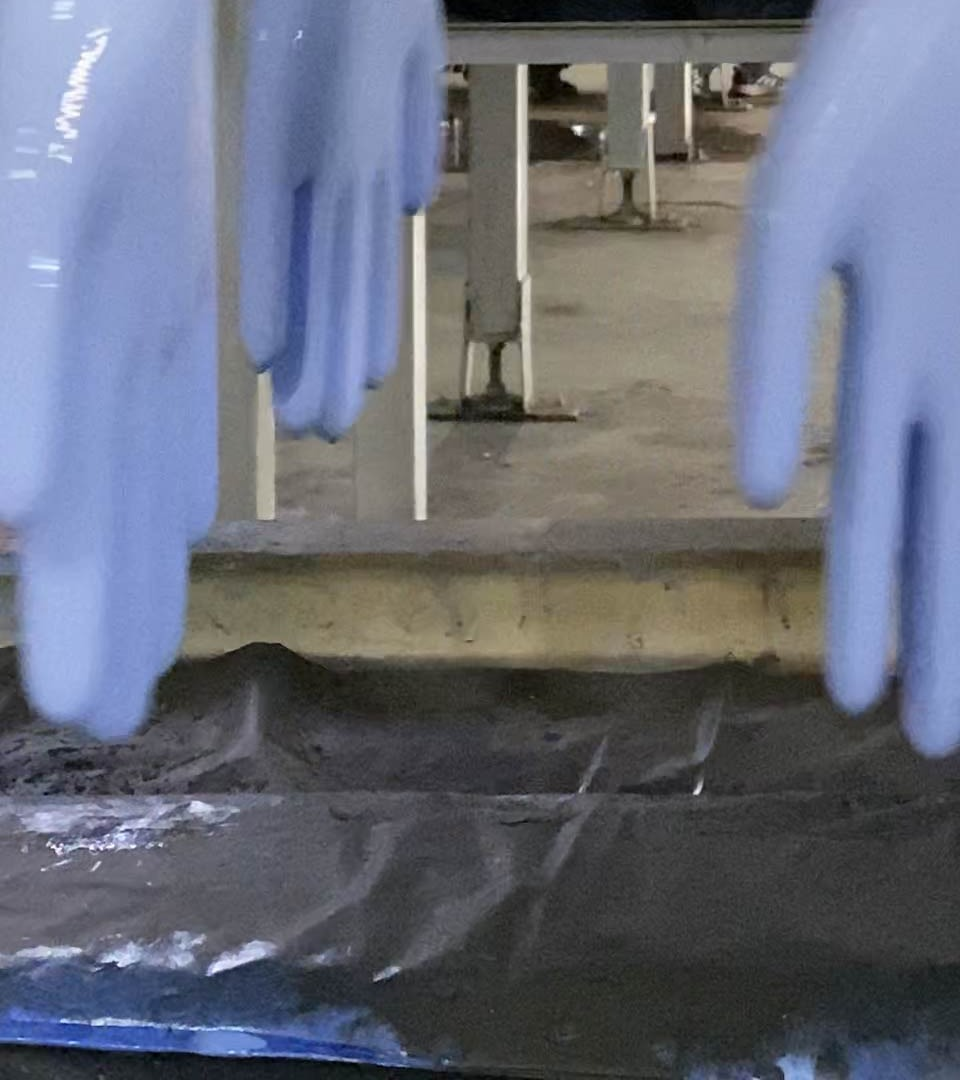glove: (722, 3, 960, 765), (242, 1, 449, 447)
